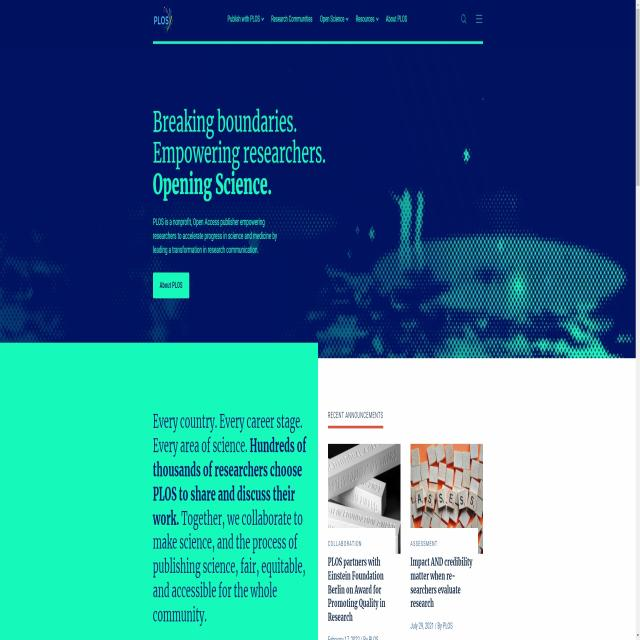menu-bar: (455, 10, 487, 32)
tab-bar: (226, 9, 410, 29)
